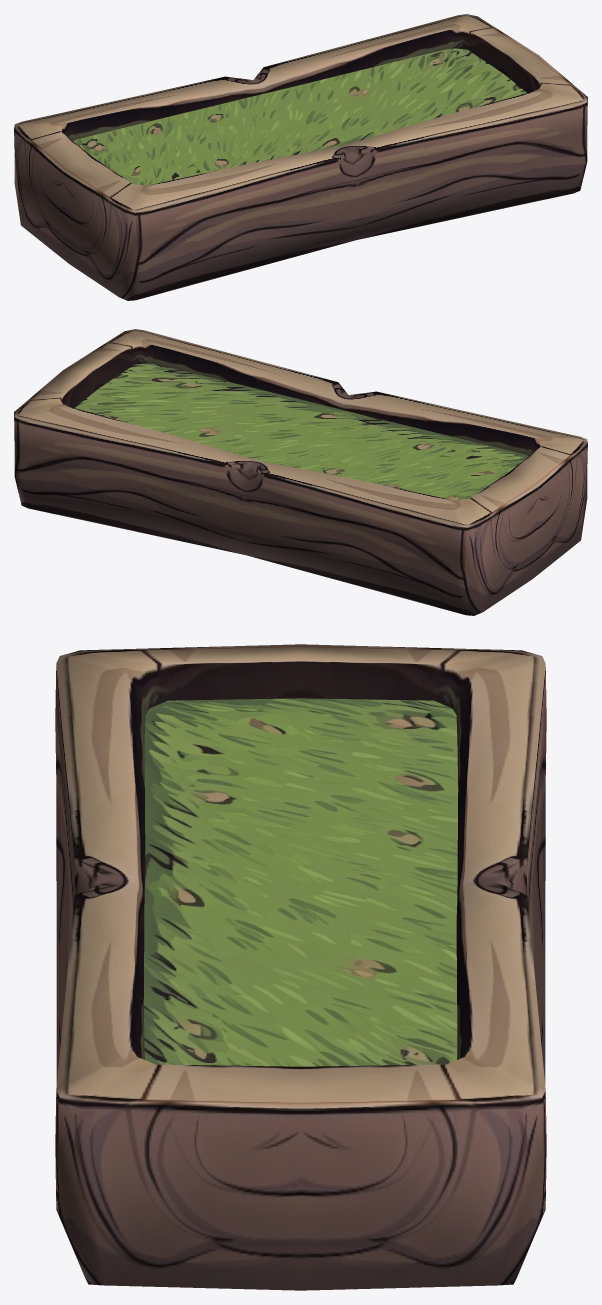
File: Feeders01.glb
3 views of the same model, one above another, from view 1: azimuth 30°, elevation 25°; view 2: azimuth 150°, elevation 25°; view 3: azimuth 270°, elevation 25° (orthographic). The views are drawn at different scales.
Visible parts, largest first — view 1: Feeders01; view 2: Feeders01; view 3: Feeders01.
Part boxes in pixels (bbox=[...]): Feeders01: bbox=[14, 14, 587, 300]; Feeders01: bbox=[14, 329, 587, 615]; Feeders01: bbox=[55, 644, 546, 1290].
Size of what is drawn, in the model's own units: 2.4 by 0.4832 by 1.07.
1 material, 1 textured.
